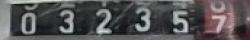digits: (94, 7, 112, 34), (134, 5, 151, 32), (58, 9, 75, 34), (171, 9, 189, 32), (20, 12, 37, 34), (211, 14, 227, 32)
